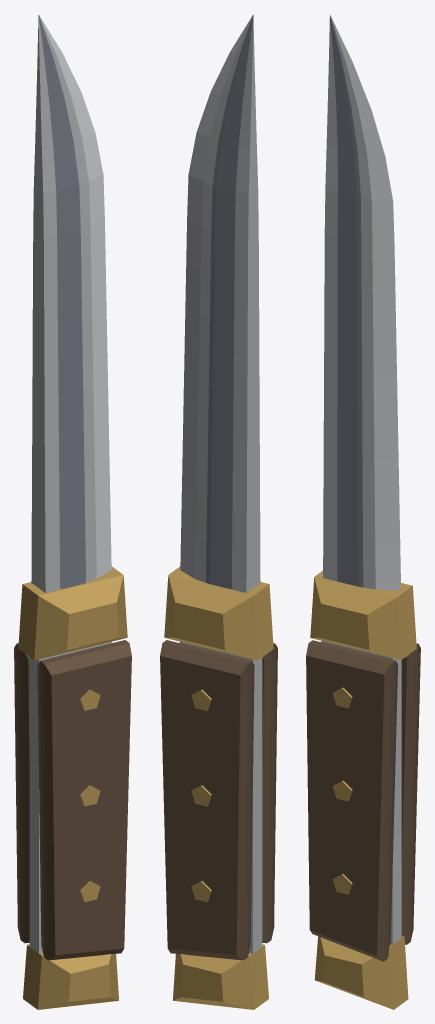
The model's file is pen_knife.glb.
3 views of the same model, side by side, from view 1: azimuth 30°, elevation 25°; view 2: azimuth 150°, elevation 25°; view 3: azimuth 330°, elevation 25° (orthographic). The views are drawn at different scales.
Parts seen in each view (by area): view 1: pen_knife; view 2: pen_knife; view 3: pen_knife.
Part boxes in pixels (left/top/right/bottom): pen_knife: left=14, top=15, right=131, bottom=1009; pen_knife: left=160, top=15, right=277, bottom=1009; pen_knife: left=306, top=15, right=420, bottom=1009.
Size of the model in its own units: 0.046 by 0.47 by 0.034.
